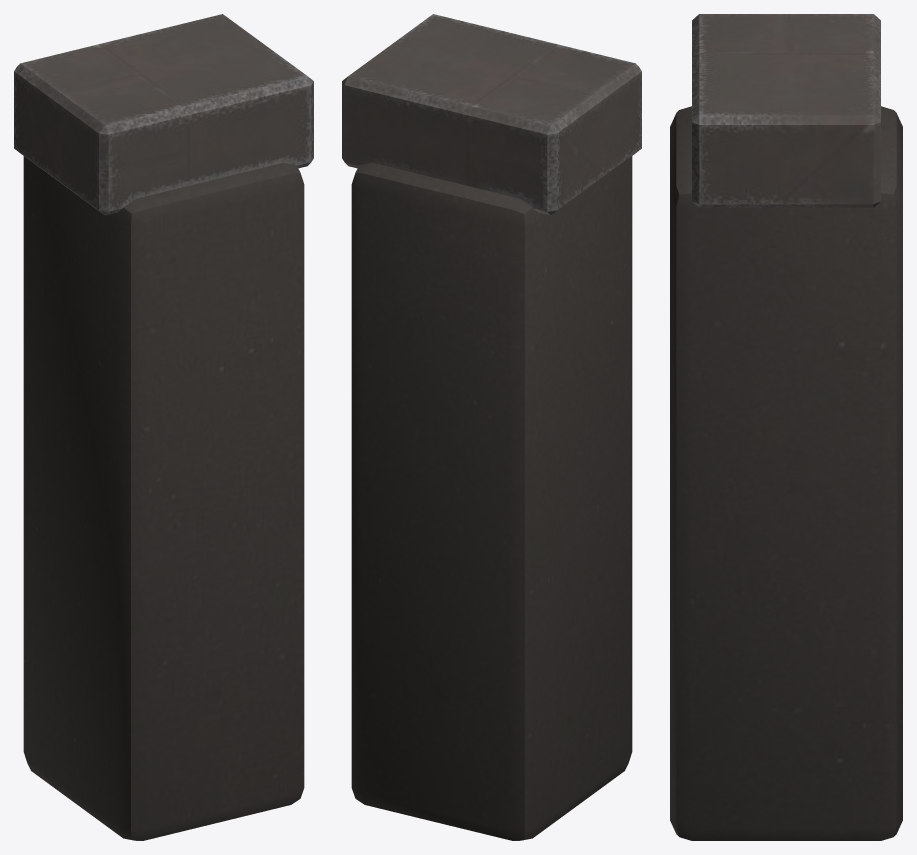
File: fence_post.glb
3 views of the same model, side by side, from view 1: azimuth 30°, elevation 25°; view 2: azimuth 150°, elevation 25°; view 3: azimuth 270°, elevation 25° (orthographic). The views are drawn at different scales.
Visible parts, largest first — view 1: fence_post; view 2: fence_post; view 3: fence_post.
Part boxes in pixels (<box>): fence_post: <box>14,14,313,840</box>; fence_post: <box>342,14,641,840</box>; fence_post: <box>670,14,902,840</box>.
Bounding box in the file's own units: 0.035 × 0.112 × 0.032.
1 material, 1 textured.
